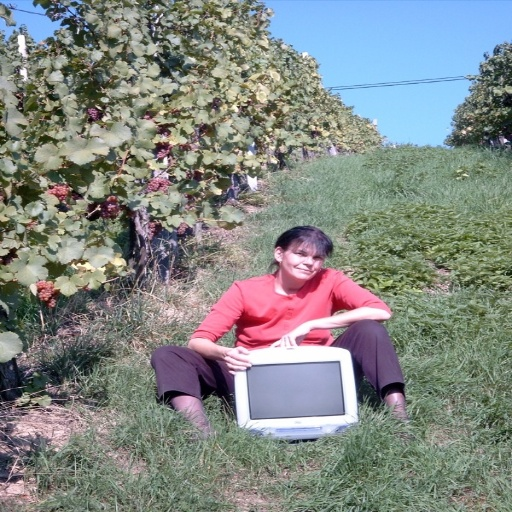hand: (205, 339, 259, 382), (267, 322, 309, 346)
